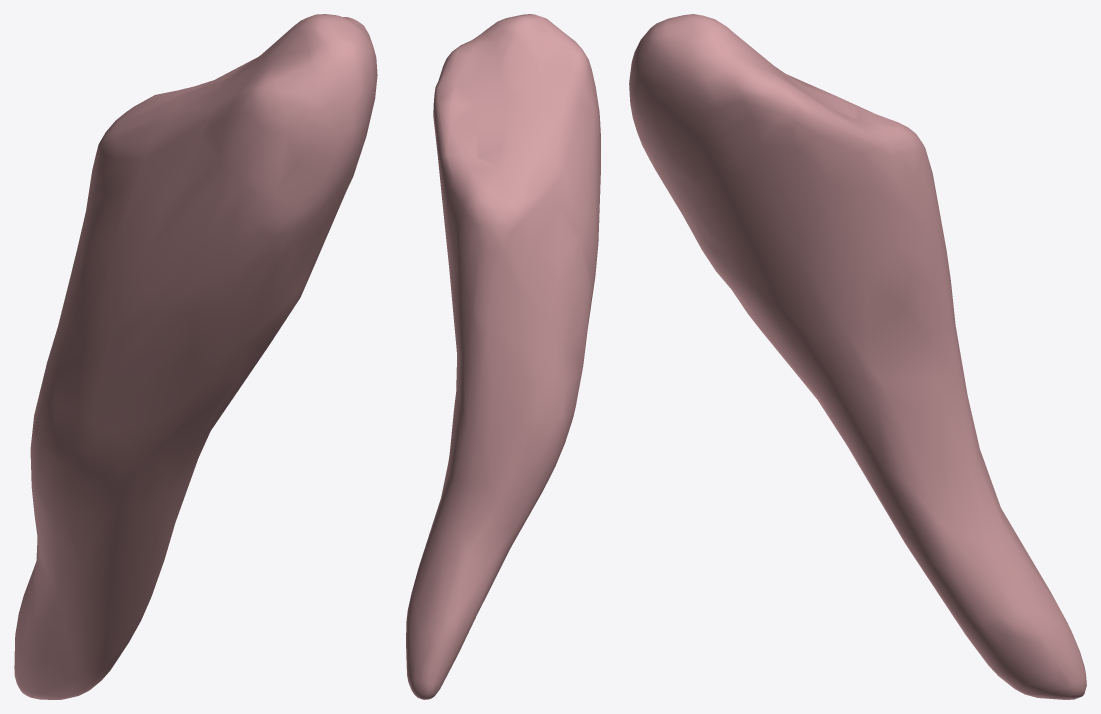
Rendered from fma55687_fj1260.glb.
3 renders of one model, left to right at view 1: azimuth 30°, elevation 25°; view 2: azimuth 150°, elevation 25°; view 3: azimuth 270°, elevation 25°, orthographic. The views are drawn at different scales.
Parts seen in each view (by area): view 1: FMA55687_FJ1260; view 2: FMA55687_FJ1260; view 3: FMA55687_FJ1260.
Boxes of the visible parts, box(x1,y1,x2,y2) form: FMA55687_FJ1260: box(14, 14, 377, 699); FMA55687_FJ1260: box(406, 14, 600, 699); FMA55687_FJ1260: box(629, 14, 1086, 699).
Bounding box in the file's own units: 0.00861 × 0.0268 × 0.0156.
